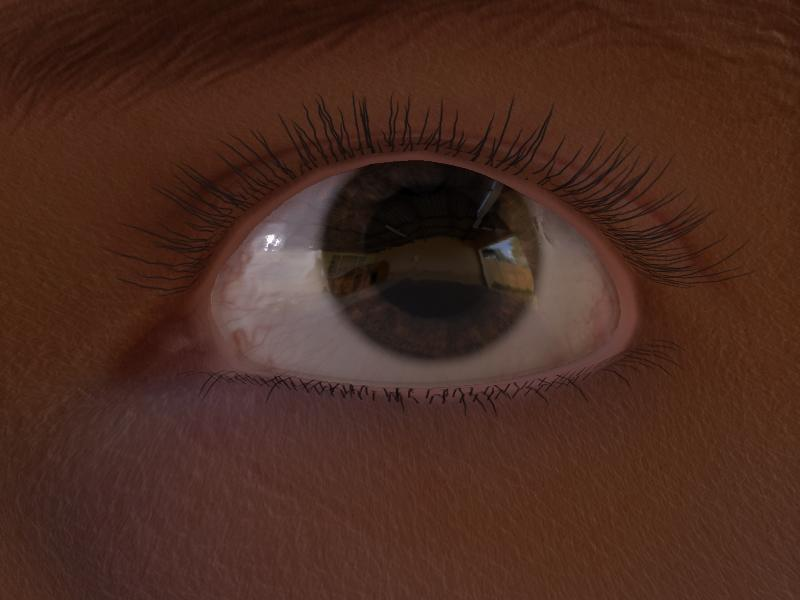eye: (326, 164, 536, 350)
